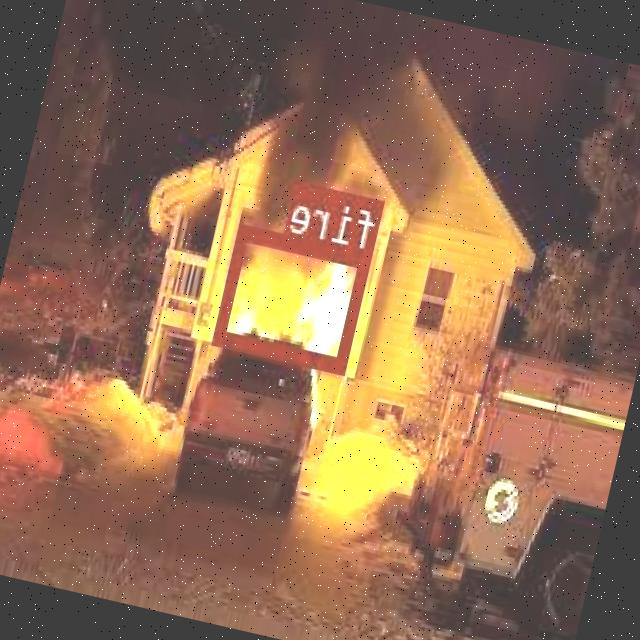fire: (214, 223, 374, 373)
